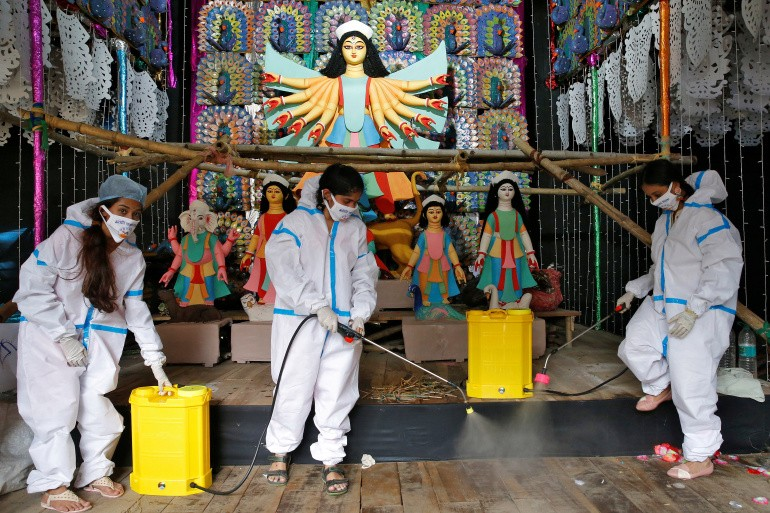Coverall: (11, 194, 169, 493), (616, 166, 746, 465), (264, 202, 380, 467)
Gloves: (57, 334, 91, 371), (146, 359, 175, 397), (668, 307, 697, 342), (612, 287, 638, 317), (313, 302, 338, 332), (348, 314, 369, 342)
with_mask: (101, 195, 143, 247), (642, 180, 686, 214), (323, 188, 360, 226)
